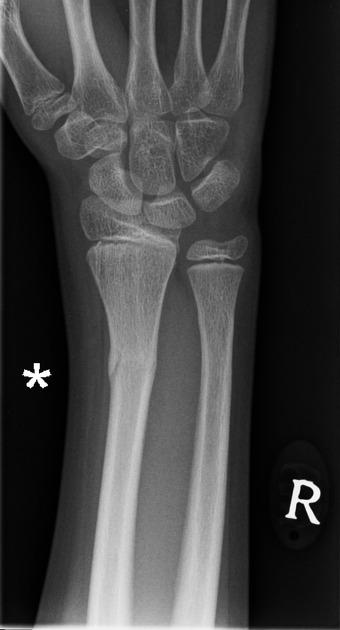fractured: (100, 358, 124, 383)
